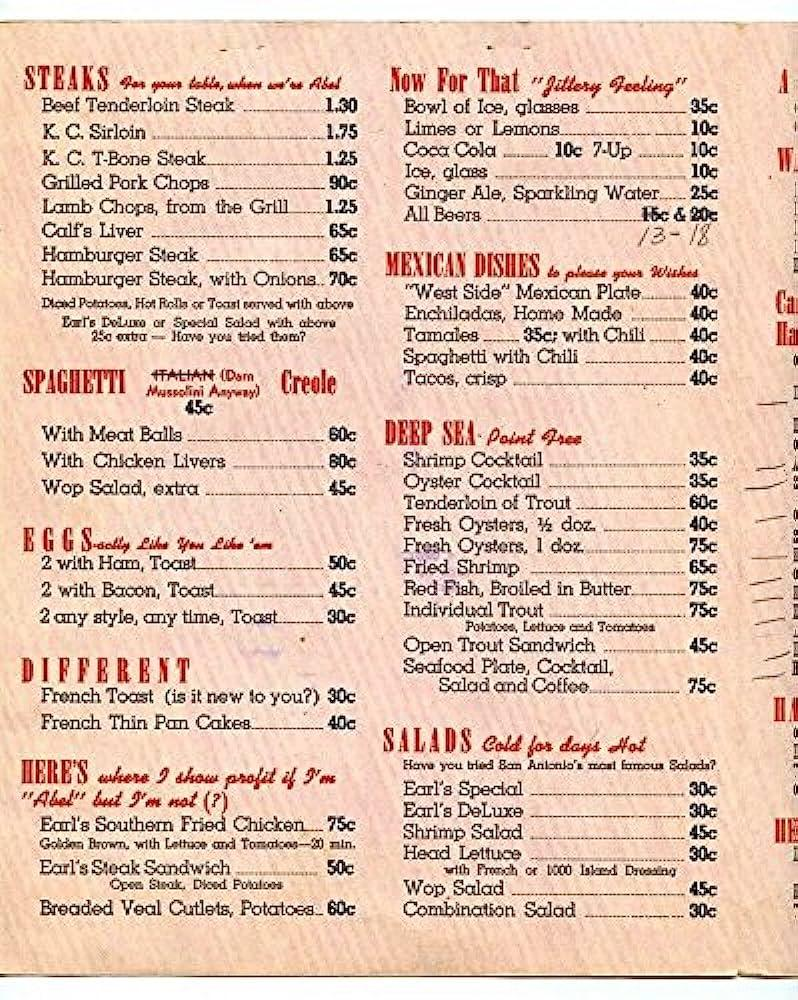Menu-Items: (398, 654, 726, 705), (29, 814, 373, 851), (36, 892, 368, 930), (398, 597, 738, 634), (33, 855, 370, 888), (35, 237, 368, 269), (34, 573, 365, 604), (34, 416, 362, 447), (34, 604, 362, 635), (39, 214, 369, 244), (35, 710, 355, 740), (34, 473, 365, 500), (37, 266, 365, 293), (396, 366, 735, 392), (395, 323, 732, 349), (401, 180, 736, 206), (34, 681, 366, 707), (37, 448, 368, 474), (33, 549, 362, 575), (35, 89, 363, 114), (396, 116, 729, 140), (398, 298, 731, 322), (404, 512, 730, 536), (397, 635, 734, 658), (399, 279, 733, 302), (402, 203, 735, 226), (400, 491, 732, 514), (36, 170, 374, 192), (36, 146, 370, 168), (400, 96, 733, 118), (398, 448, 730, 470), (397, 345, 734, 366), (39, 120, 364, 141), (393, 535, 730, 555), (394, 139, 726, 159), (397, 160, 728, 180), (403, 575, 731, 595), (402, 475, 730, 494), (398, 557, 726, 576), (37, 196, 369, 214)
